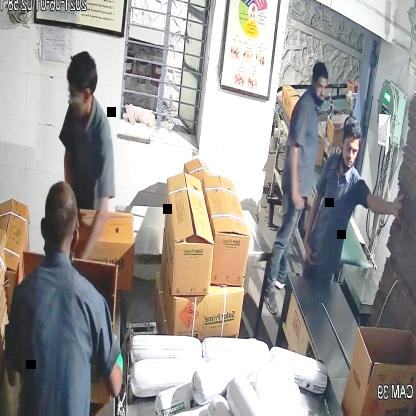no_goggles: (339, 133, 362, 161)
